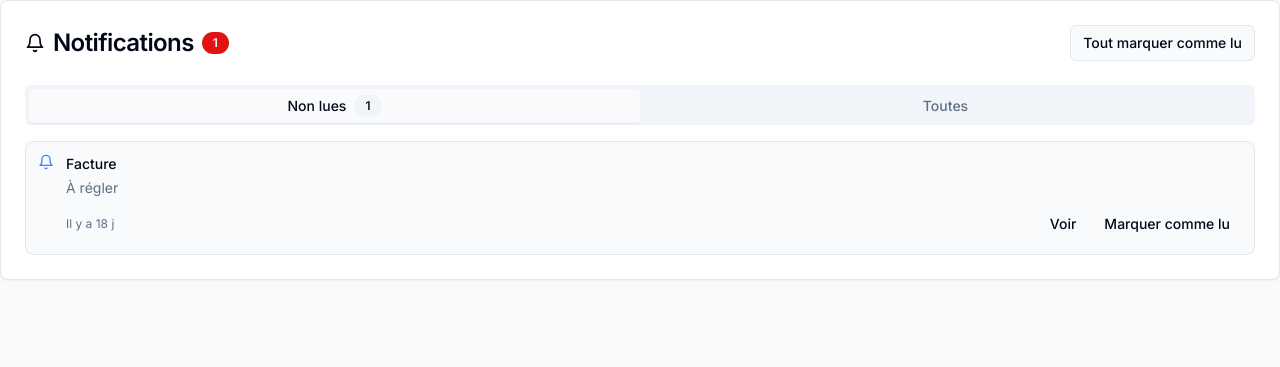
NotificationCenter › marque comme lu via read=true (plus via read_at)
The image size is (1280, 367).
Expected: the heading "Facture" is shown, x1=66 y1=154 x2=116 y2=174
Click the button "Marquer comme lu": (1167, 224) x1=1092 y1=206 x2=1242 y2=242
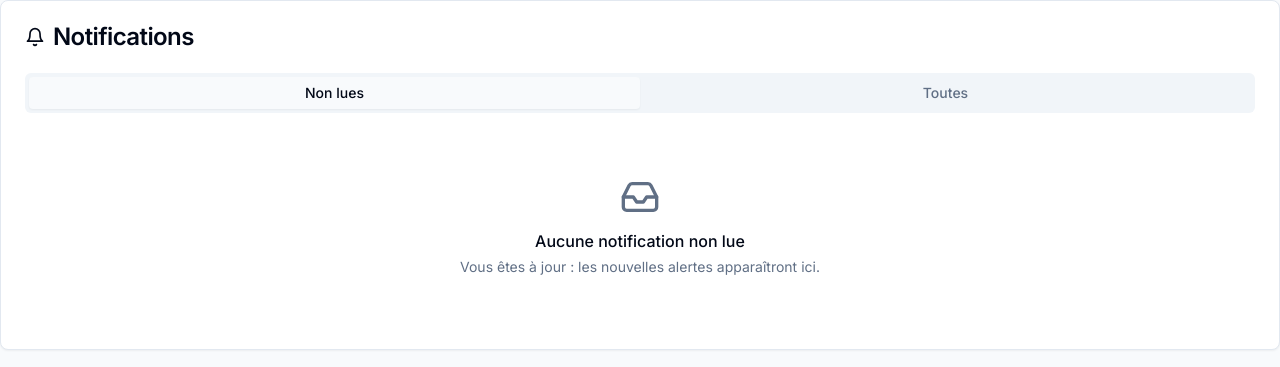
Expected: the button "Marquer comme lu" is gone
Expected: the text "Aucune notification non lue" is shown, x1=535 y1=231 x2=745 y2=251
